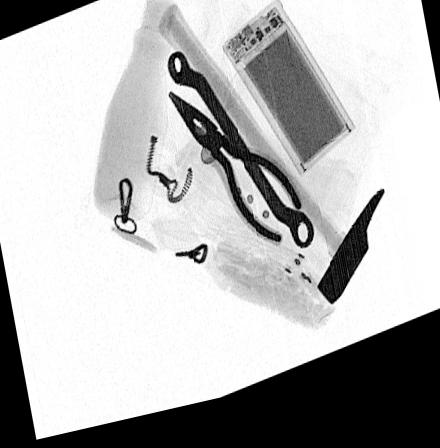Hammer: (156, 12, 385, 321)
Pliers: (165, 99, 304, 260)
Powerbank: (220, 9, 354, 189)
Wrench: (166, 56, 314, 266)
